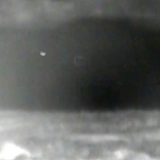Target: (40, 52, 46, 56)
